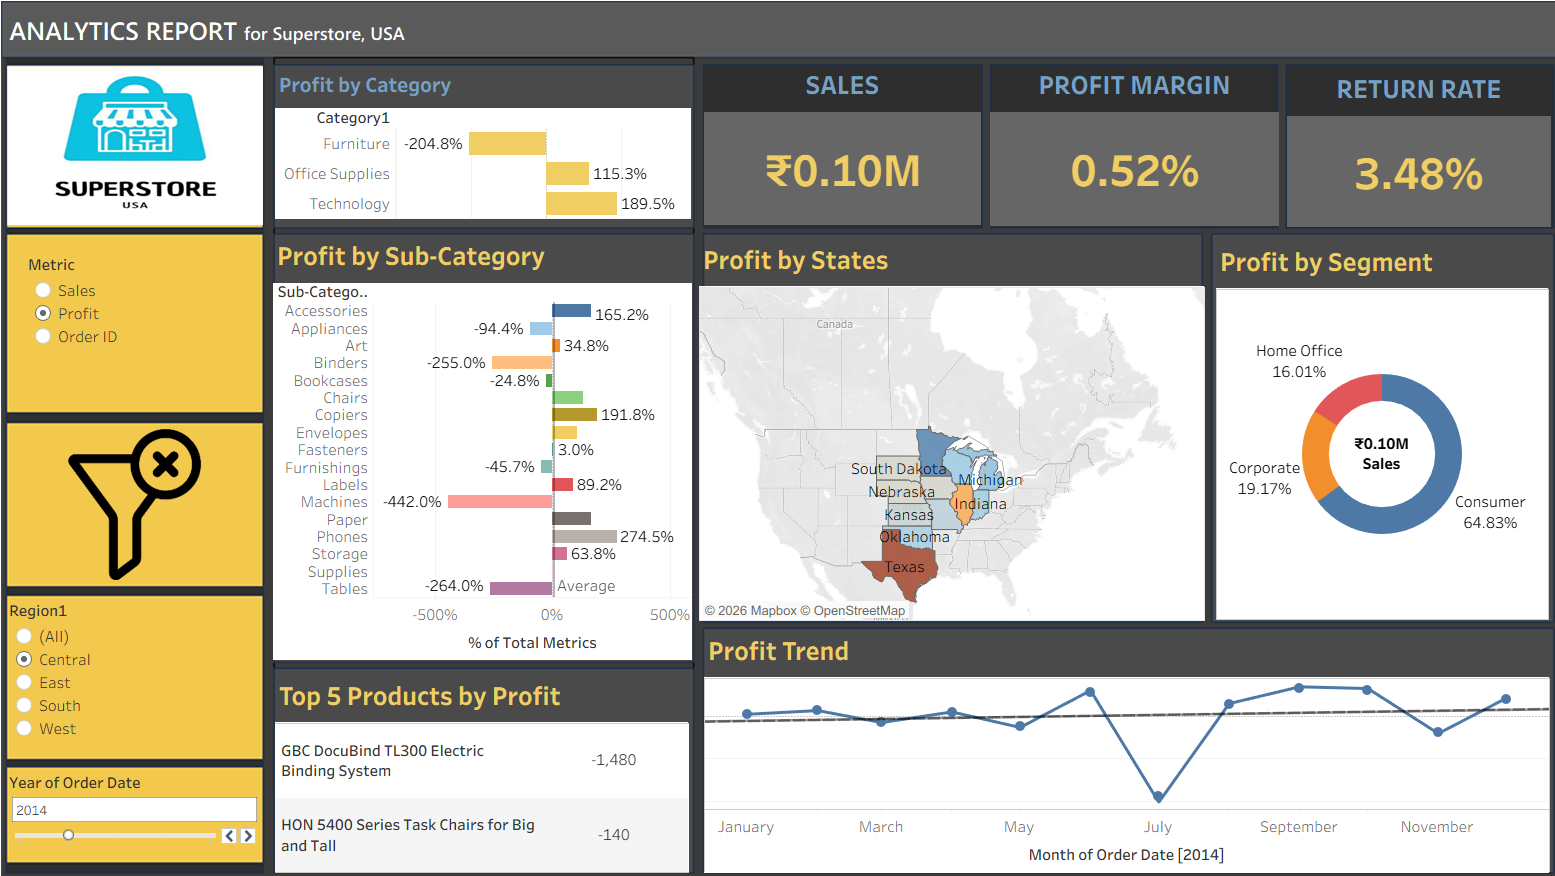

Layout of this report page (visuals, bound fields, positions):
{"tool":"tableau","page":{"name":"Dashboard 2","canvas":[1600,900],"ordinal":1},"visuals":[{"type":"image","param":"Image/Slide1.PNG","box":[8,8,1584,884]},{"type":"text","box":[17,16,511,51]},{"type":"worksheet","title":"Assignment 7 (4)","mark":"Automatic","box":[715,74,277,162]},{"type":"worksheet","title":"Assignment 7 (5)","mark":"Automatic","box":[1001,74,289,163]},{"type":"image","param":"Image/Logo - Copy.png","box":[18,77,256,162]},{"type":"worksheet","title":"Assignment 7 (2)","mark":"Automatic","rows":["Category"],"cols":["Calculation_1207853705064460"],"box":[286,77,416,162]},{"type":"worksheet","title":"Assignment 7 (6)","mark":"Automatic","box":[1298,78,264,160]},{"type":"worksheet","title":"Assignment 7","mark":"Automatic","rows":["Sub-Category"],"cols":["Calculation_1207853705064460"],"box":[284,245,419,426]},{"type":"worksheet","title":"Assignment 7 (8)","mark":"Multipolygon","box":[710,249,506,383]},{"type":"worksheet","title":"Assignment 7 (7)","mark":"Pie","rows":["Calculation_1894766404337675","Calculation_1894766404354061"],"box":[1227,251,333,380]},{"type":"parameter","param":"[Parameters].[Parameter 1894766419525646]","box":[39,265,226,152]},{"type":"dashboard-object","box":[20,440,250,151]},{"type":"filter","title":"Assignment 7 (9)","param":"[federated.0edlraj1anpspn1djd8ef1rr8pt8].[none:Region:nk]","box":[16,607,259,172]},{"type":"worksheet","title":"Assignment 7 (9)","mark":"Line","rows":["Calculation_1207853705064460","Calculation_1207853705064460"],"cols":["Order Date"],"box":[715,640,846,244]},{"type":"worksheet","title":"Assignment 7 (3)","mark":"Automatic","rows":["Product Name"],"box":[286,685,419,199]},{"type":"filter","title":"Assignment 7 (9)","param":"[federated.0edlraj1anpspn1djd8ef1rr8pt8].[yr:Order Date:ok]","box":[16,779,259,89]}]}

Visuals, with their boxes in screenshot pixels (x1, y1, x2, y2), scaled from the page's 1600x900 canvas onto the 1555x876 screenshot:
image: <bbox>8, 8, 1547, 868</bbox>
text: <bbox>17, 16, 513, 65</bbox>
"Assignment 7 (4)" worksheet: <bbox>695, 72, 964, 230</bbox>
"Assignment 7 (5)" worksheet: <bbox>973, 72, 1254, 231</bbox>
image: <bbox>17, 75, 266, 233</bbox>
"Assignment 7 (2)" worksheet: <bbox>278, 75, 682, 233</bbox>
"Assignment 7 (6)" worksheet: <bbox>1261, 76, 1518, 232</bbox>
"Assignment 7" worksheet: <bbox>276, 238, 683, 653</bbox>
"Assignment 7 (8)" worksheet (Multipolygon marks): <bbox>690, 242, 1182, 615</bbox>
"Assignment 7 (7)" worksheet (Pie marks): <bbox>1192, 244, 1516, 614</bbox>
parameter: <bbox>38, 258, 258, 406</bbox>
dashboard-object: <bbox>19, 428, 262, 575</bbox>
"Assignment 7 (9)" filter: <bbox>16, 591, 267, 758</bbox>
"Assignment 7 (9)" worksheet (Line marks): <bbox>695, 623, 1517, 860</bbox>
"Assignment 7 (3)" worksheet: <bbox>278, 667, 685, 860</bbox>
"Assignment 7 (9)" filter: <bbox>16, 758, 267, 845</bbox>
